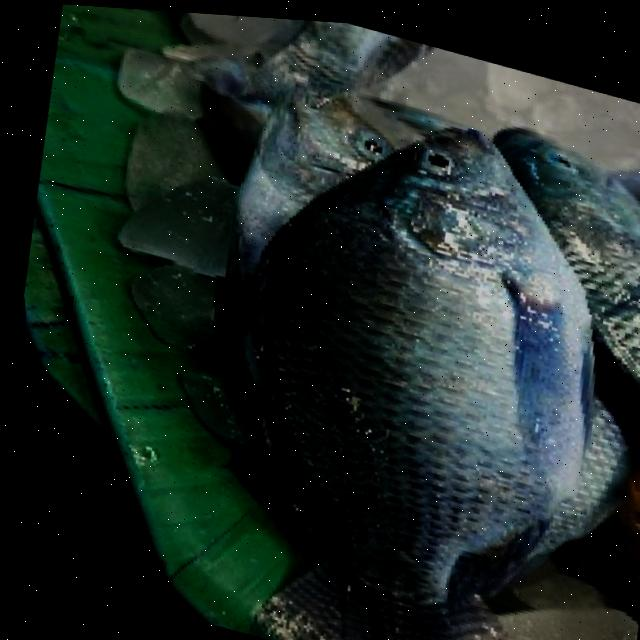Fresh: (195, 67, 640, 640)
